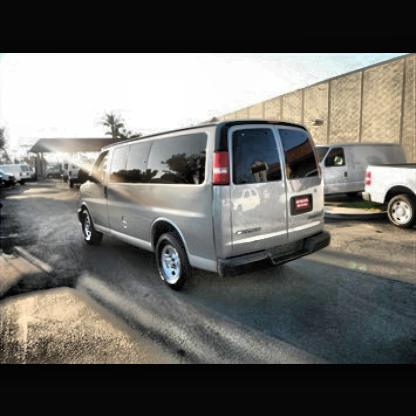Chevrolet Express Van 2007: (78, 122, 332, 289)
